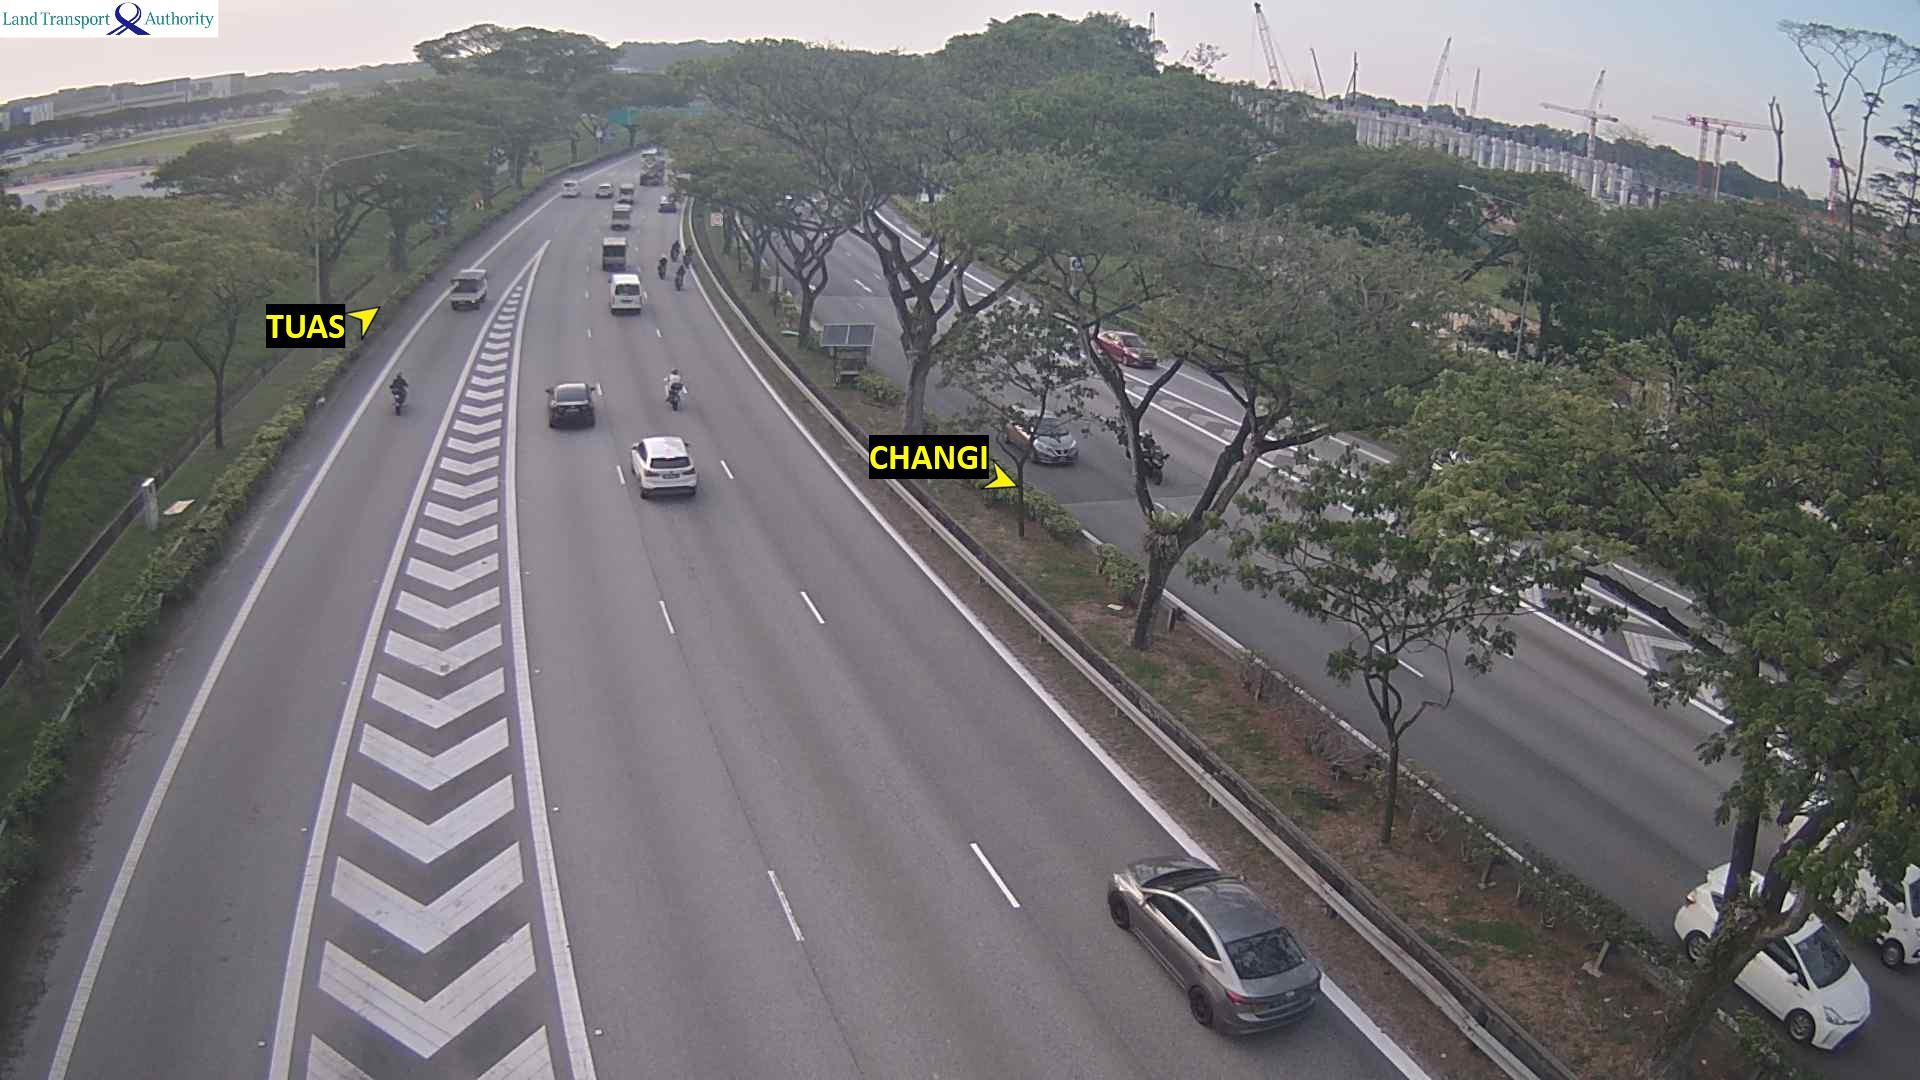cars: (1106, 855, 1321, 1036), (1672, 861, 1871, 1052), (1775, 808, 1917, 969), (629, 434, 698, 497), (1004, 410, 1077, 465), (545, 380, 603, 427), (1095, 328, 1156, 368), (1033, 338, 1087, 375), (448, 266, 488, 310), (607, 272, 646, 313), (601, 235, 626, 270), (638, 145, 669, 166), (611, 200, 632, 228), (640, 164, 662, 185), (657, 191, 676, 212), (560, 178, 580, 196), (617, 182, 636, 200), (595, 182, 613, 198)
motorcycle: (663, 378, 686, 411), (389, 382, 407, 415), (657, 253, 670, 282), (675, 262, 687, 293), (683, 244, 695, 272), (670, 240, 682, 264)
